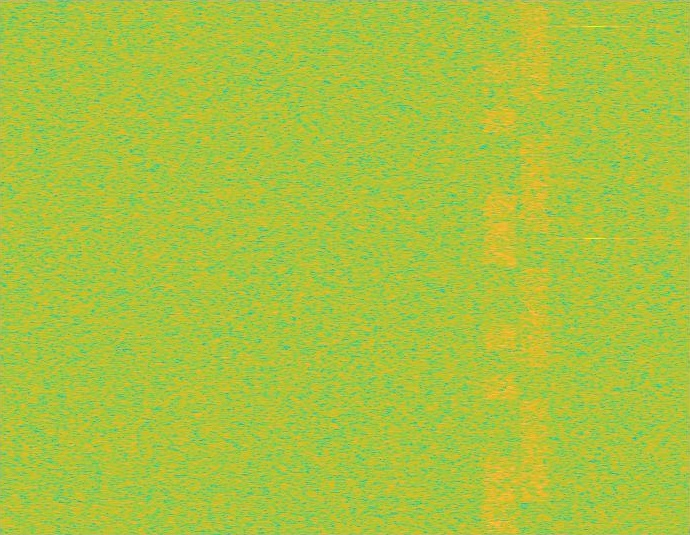5G: (518, 0, 552, 534)
LTE: (483, 0, 518, 534)
Radar: (588, 0, 601, 534)
